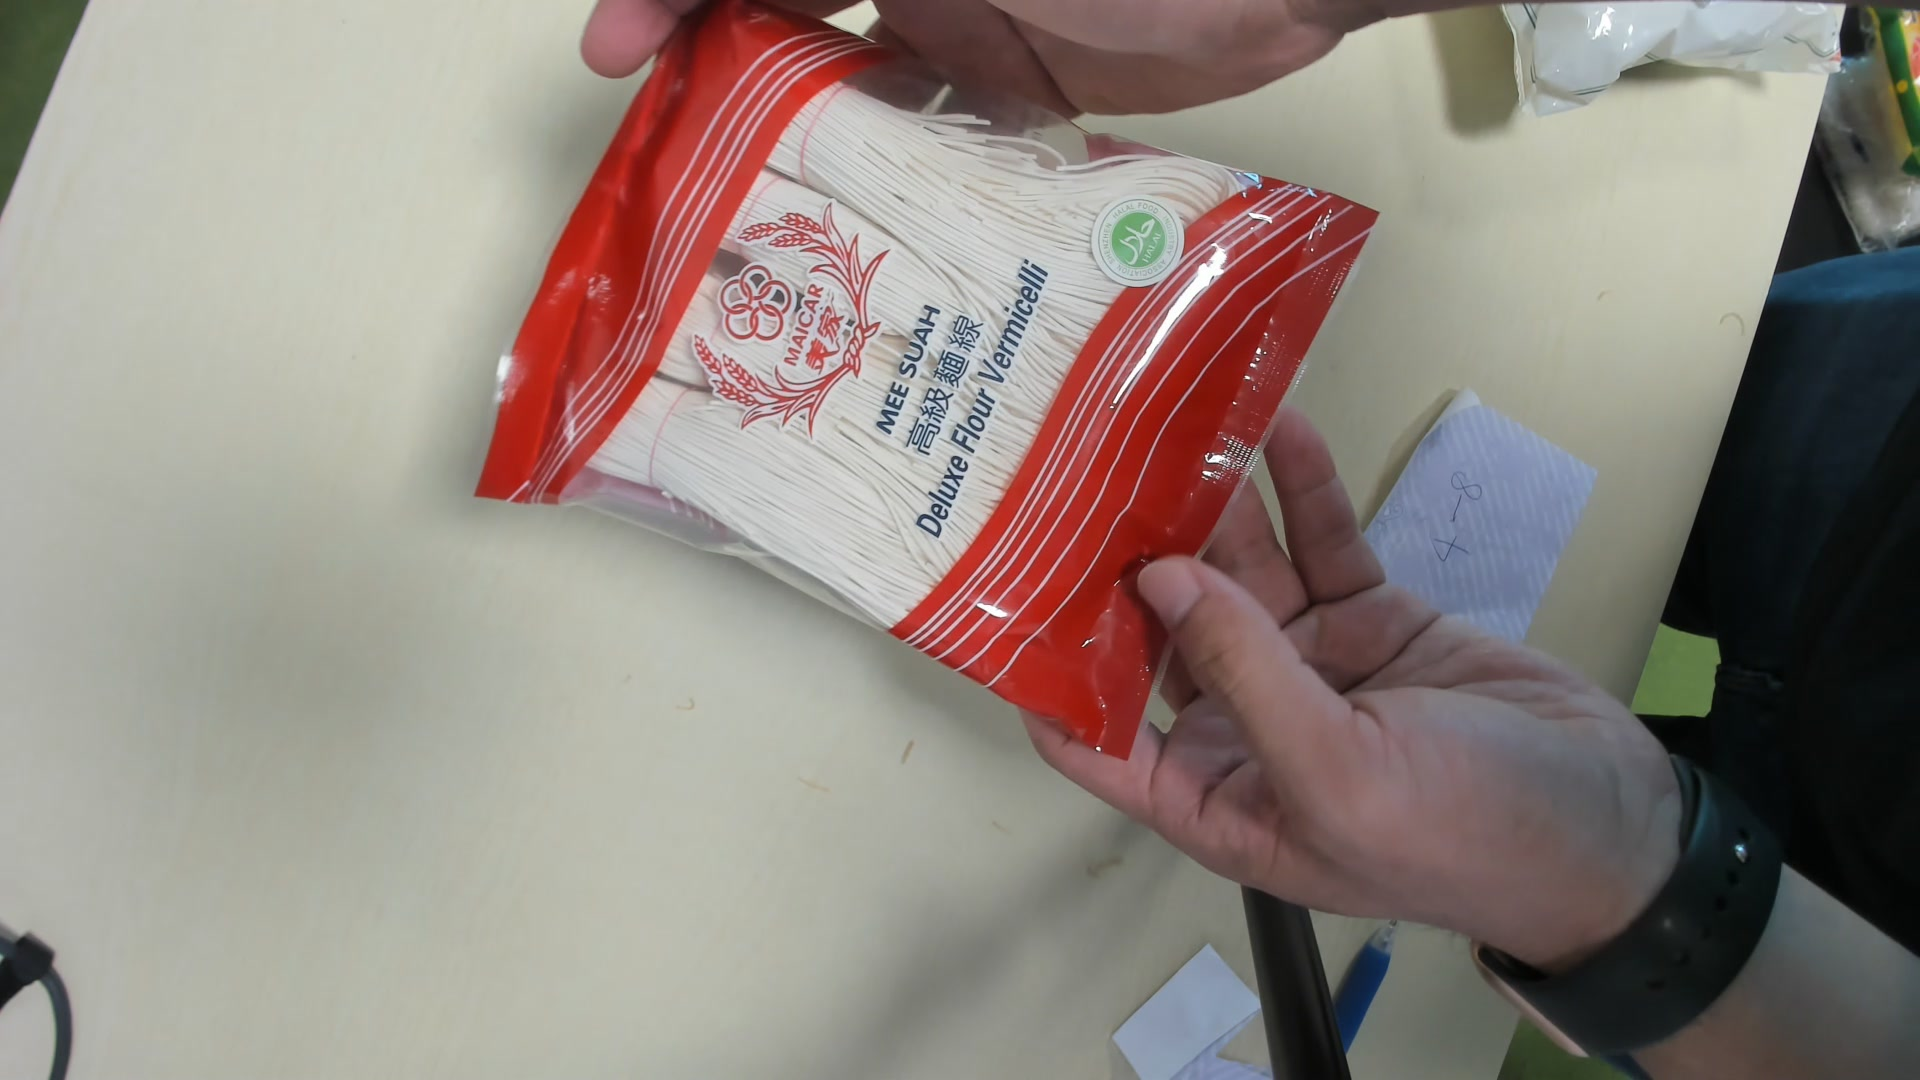BeeHoonVermicelli_100-199g_Halal_NonHealthy: (481, 9, 1381, 749)
